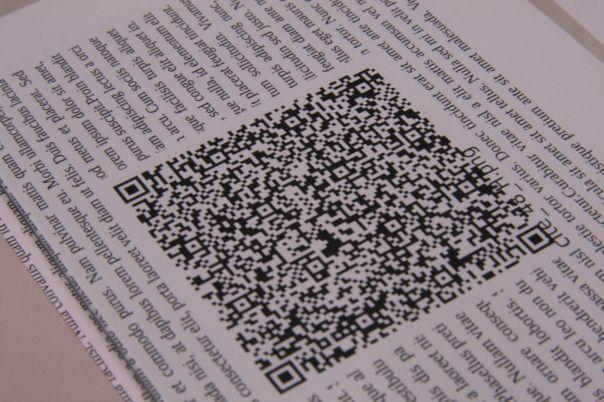Finder pattern: (263, 356, 308, 398), (515, 222, 555, 253), (111, 175, 152, 205)
